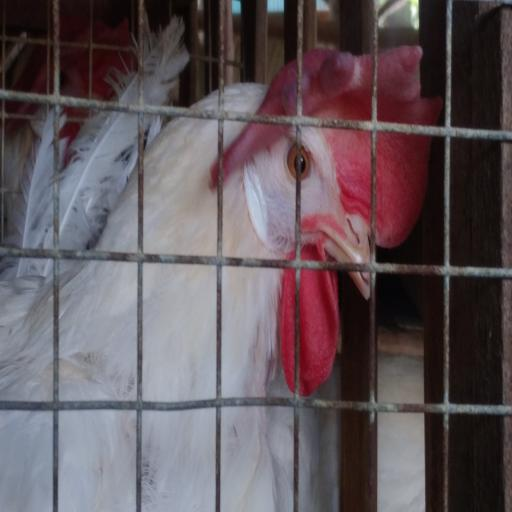healthy: (254, 68, 413, 286)
